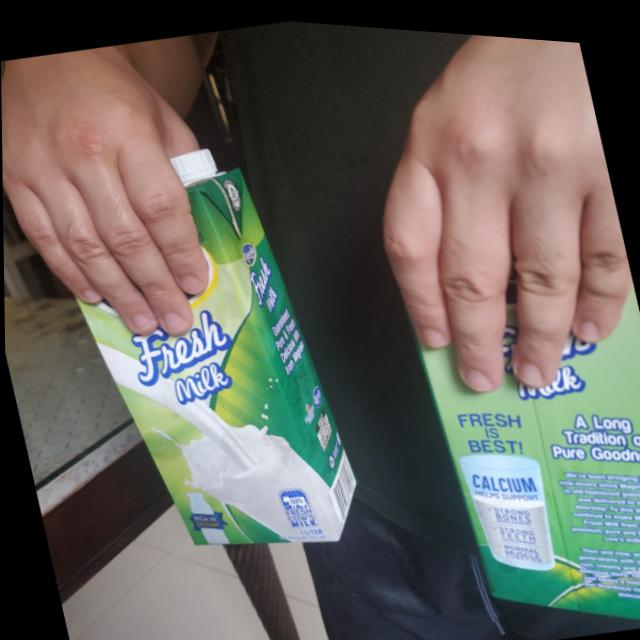milk: (49, 122, 370, 576), (384, 152, 640, 640)
